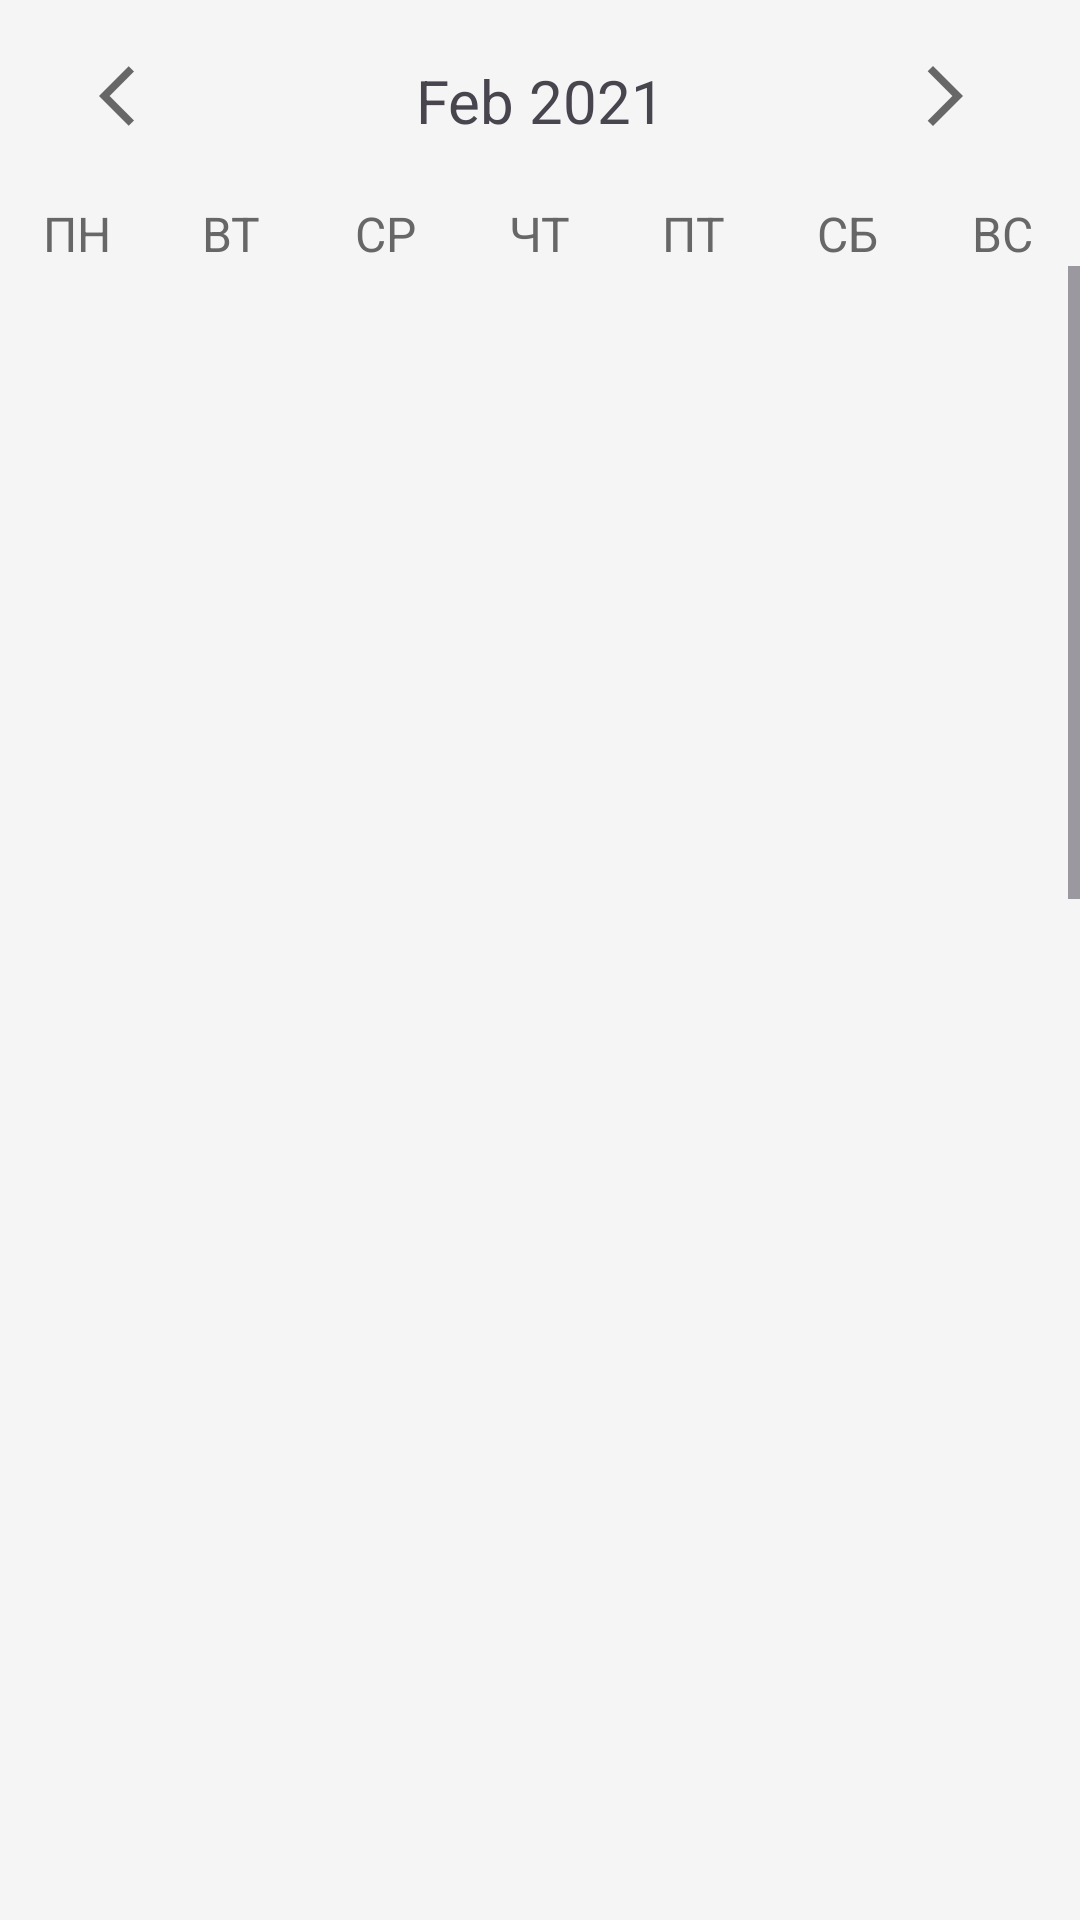

Screen size 1080 × 1920. Icon name, then its center in pixels as point (x, y):
arrow back: point (116, 96)
arrow forward: point (945, 96)
